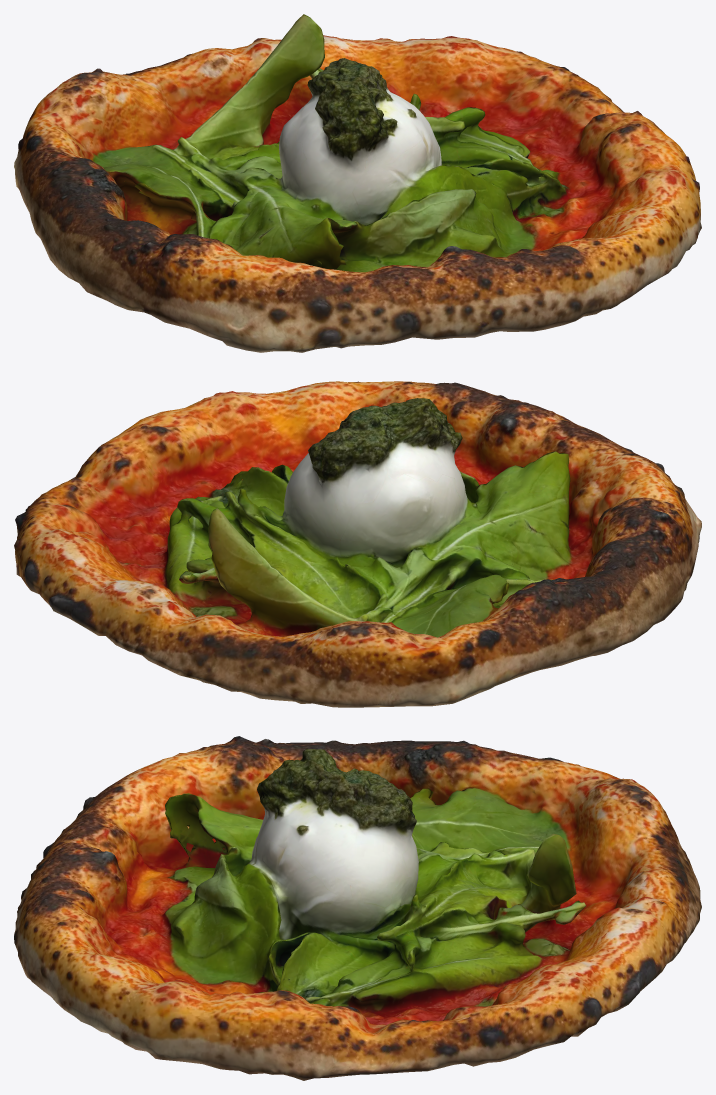
The model's file is burrata.glb.
3 views of the same model, one above another, from view 1: azimuth 30°, elevation 25°; view 2: azimuth 150°, elevation 25°; view 3: azimuth 270°, elevation 25° (orthographic). The views are drawn at different scales.
Bounding box in the file's own units: 0.9534 × 0.2603 × 0.957.
1 material, 1 textured.
